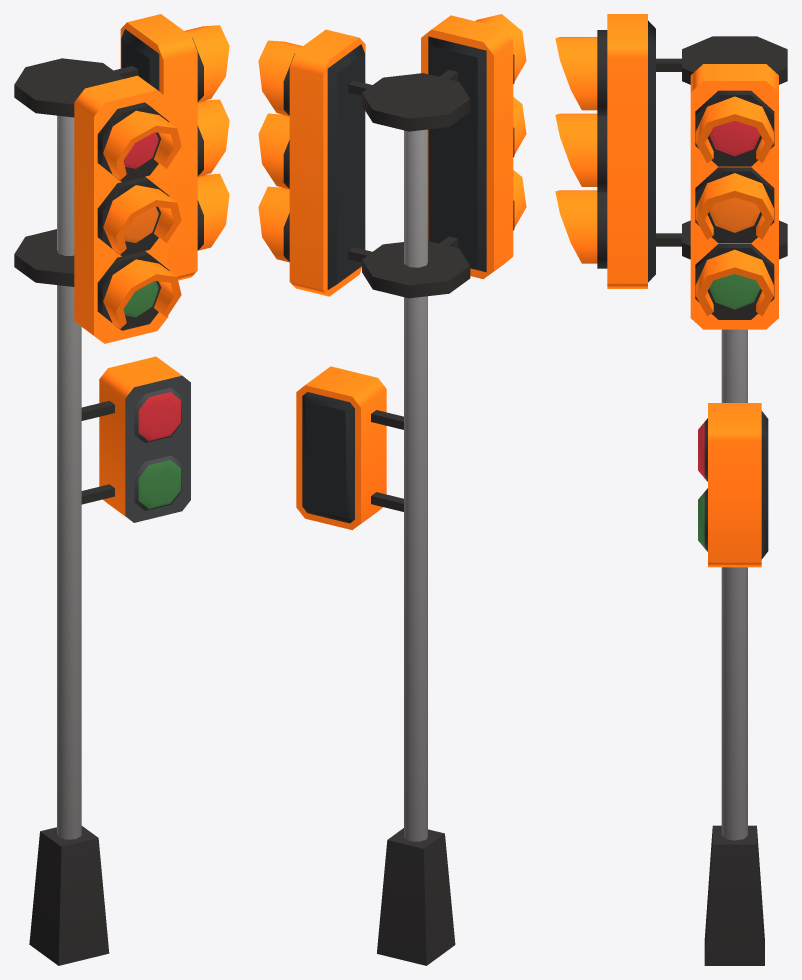
The model's file is Traffic_Light_02.glb.
The picture shows the model from 3 angles, left to right: view 1: azimuth 30°, elevation 25°; view 2: azimuth 150°, elevation 25°; view 3: azimuth 270°, elevation 25°; orthographic projection. The views are drawn at different scales.
Visible parts, largest first — view 1: Traffic_Light_02; view 2: Traffic_Light_02; view 3: Traffic_Light_02.
Part boxes in pixels (x1,y1,x2,y2): Traffic_Light_02: [14, 14, 229, 965]; Traffic_Light_02: [258, 14, 526, 965]; Traffic_Light_02: [555, 14, 787, 965].
Size of the model in its own units: 1.13 by 4.96 by 1.13.
Materials: 2 (2 with a texture image).
